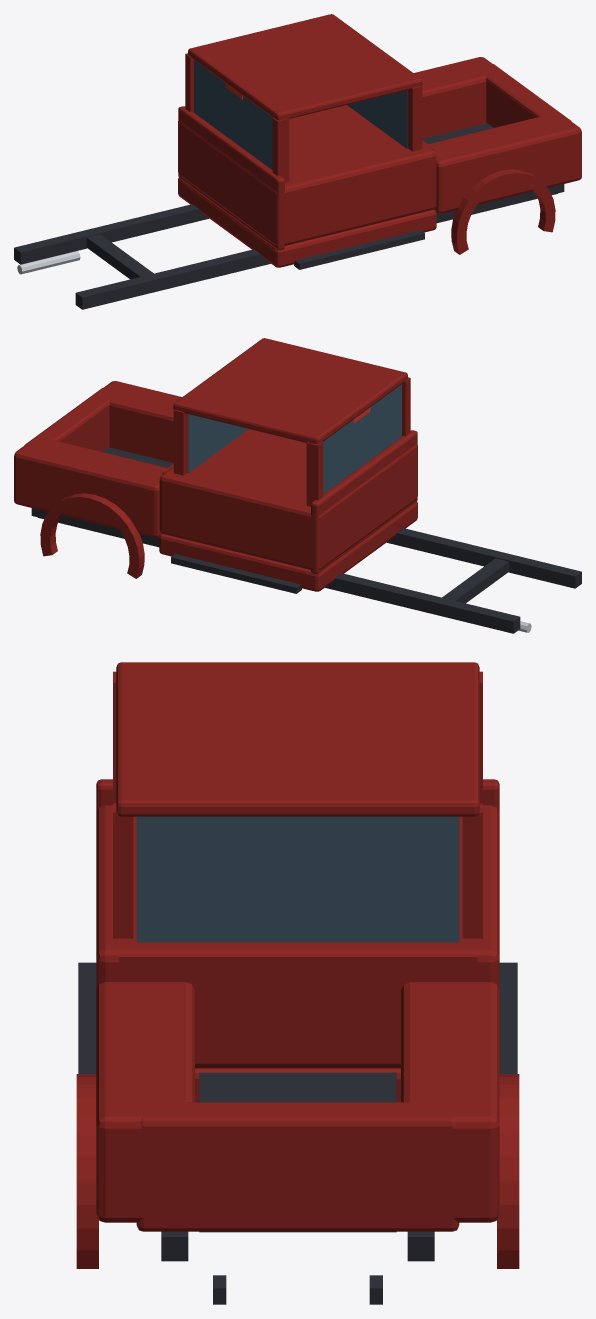
Rendered from cab.obj.
The picture shows the model from 3 angles, top to bottom: view 1: azimuth 30°, elevation 25°; view 2: azimuth 150°, elevation 25°; view 3: azimuth 270°, elevation 25°; orthographic projection. The views are drawn at different scales.
Parts seen in each view (by area): view 1: arch; view 2: arch; view 3: arch.
Part boxes in pixels (box(x1,y1,x2,y2)): arch: box(14, 14, 581, 309); arch: box(14, 338, 581, 633); arch: box(76, 662, 519, 1304).
Bounding box in the file's own units: 5.15 × 1.72 × 1.98.
